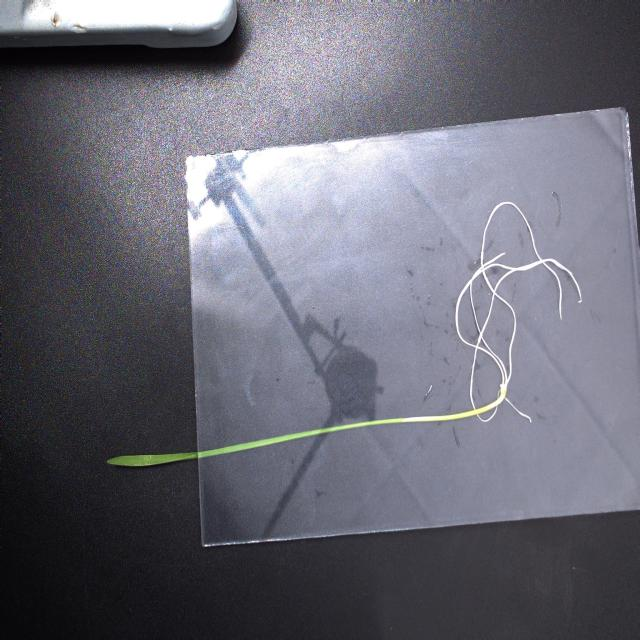leaf: (104, 452, 198, 468)
root: (456, 200, 582, 423)
stem: (199, 410, 477, 457)
